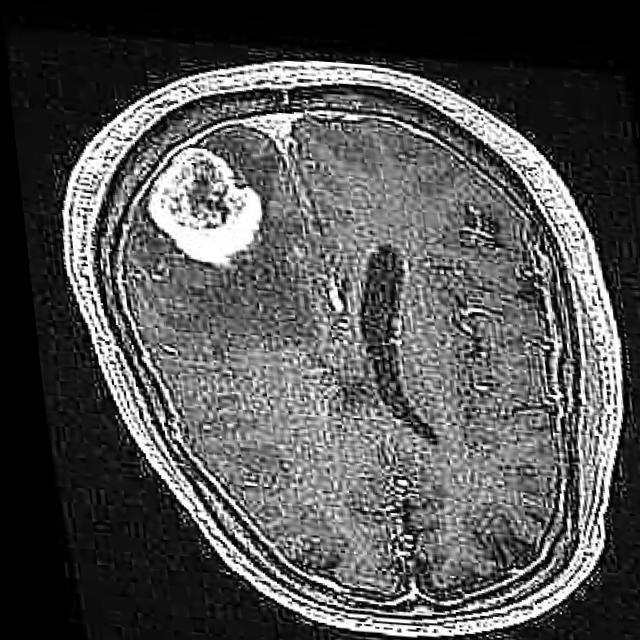Tumor: (146, 137, 267, 278)
